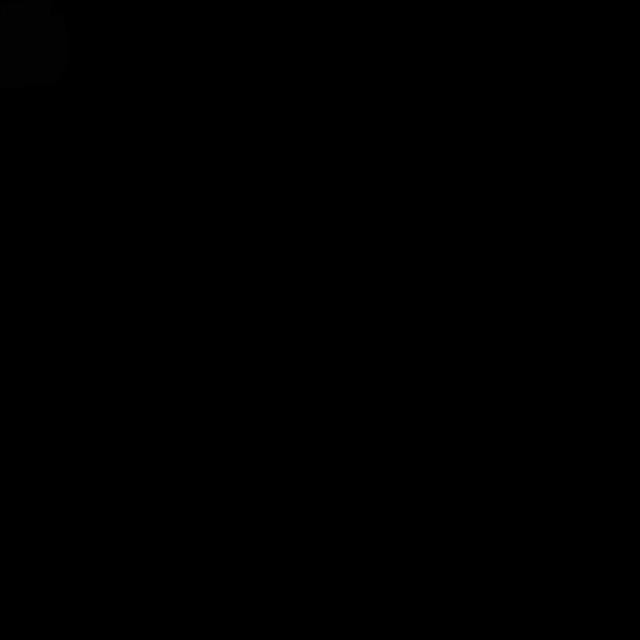cardboard: (0, 0, 68, 89)
